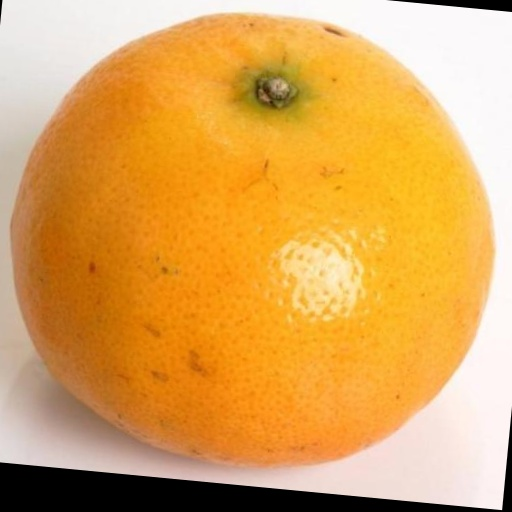fruit: (10, 14, 492, 465)
